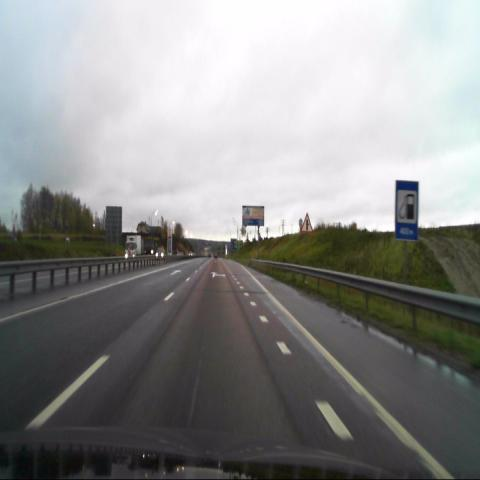7_3: (395, 179, 419, 242)
